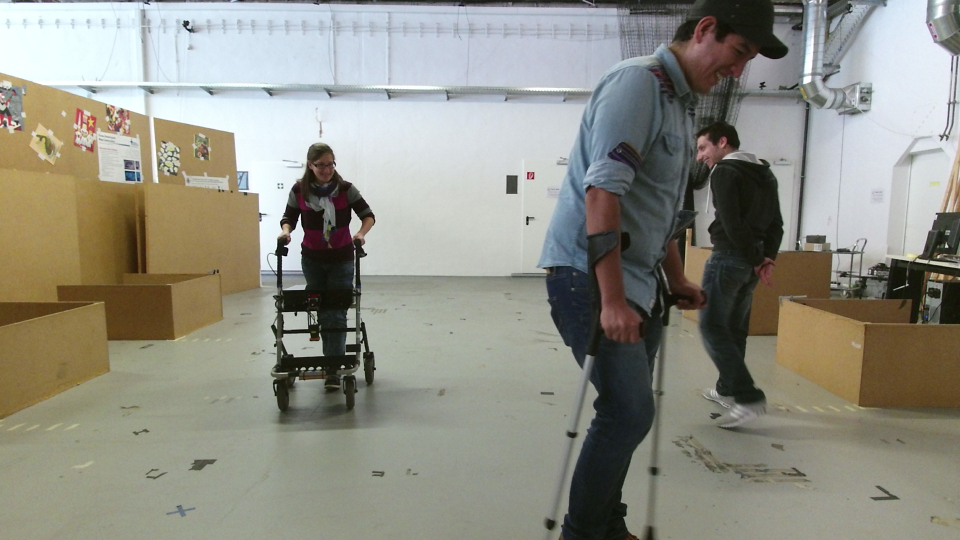crutches: (514, 4, 725, 529)
